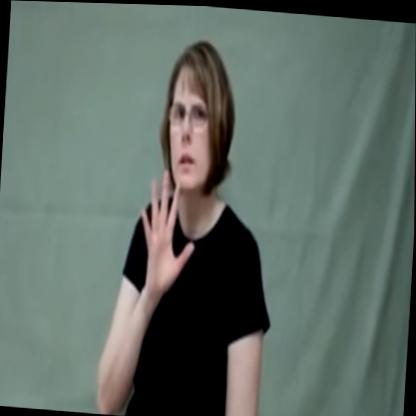Talk: (120, 31, 243, 296)
